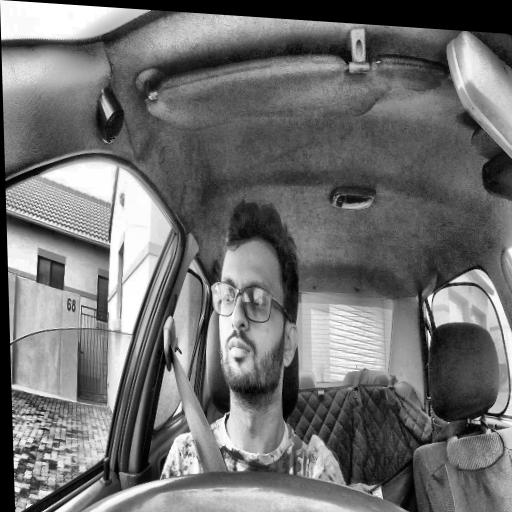awake: (208, 198, 303, 402)
